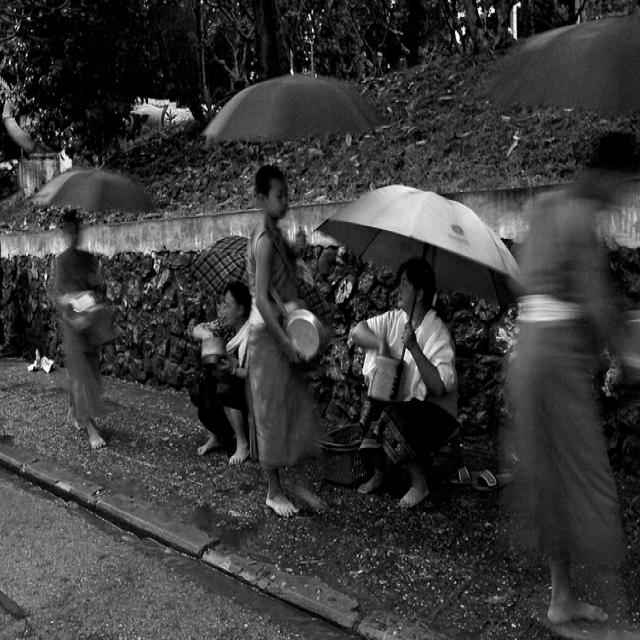monkey: (501, 122, 640, 626), (235, 156, 337, 524), (351, 258, 459, 511), (51, 211, 110, 448), (188, 282, 251, 470)
